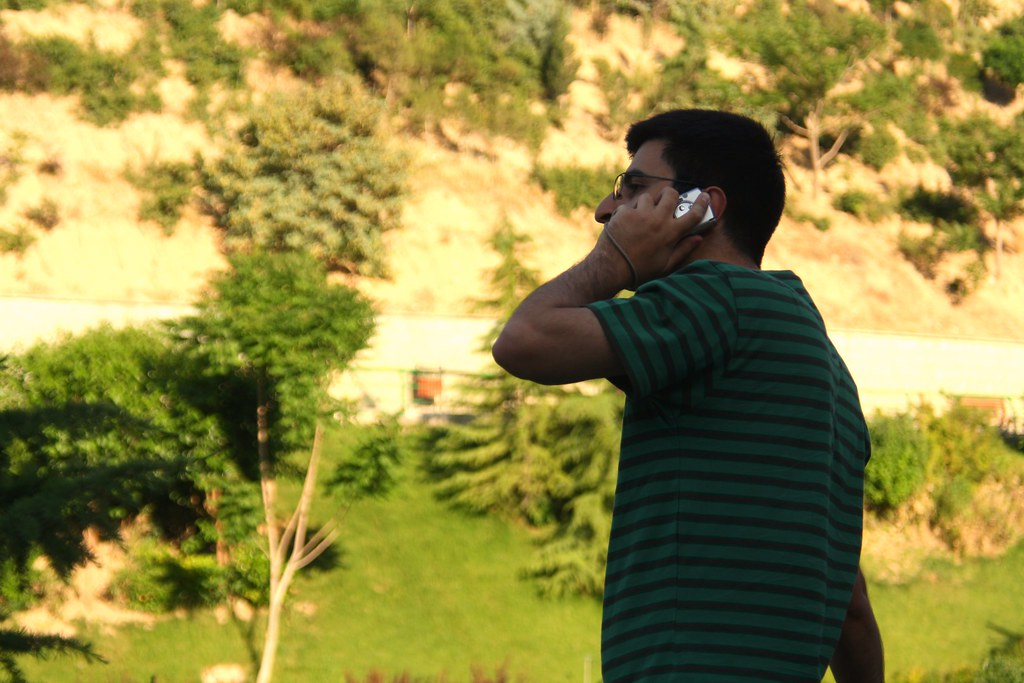phone: (623, 179, 717, 245)
talk: (590, 168, 741, 278)
